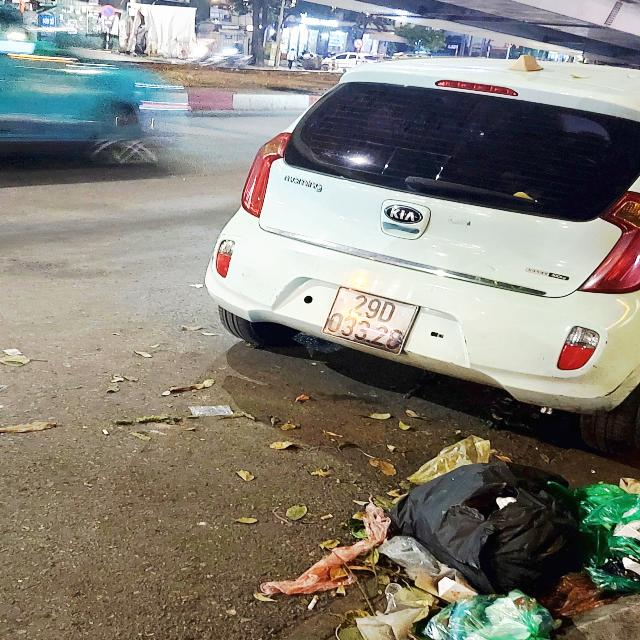license_plate: (321, 288, 419, 357)
